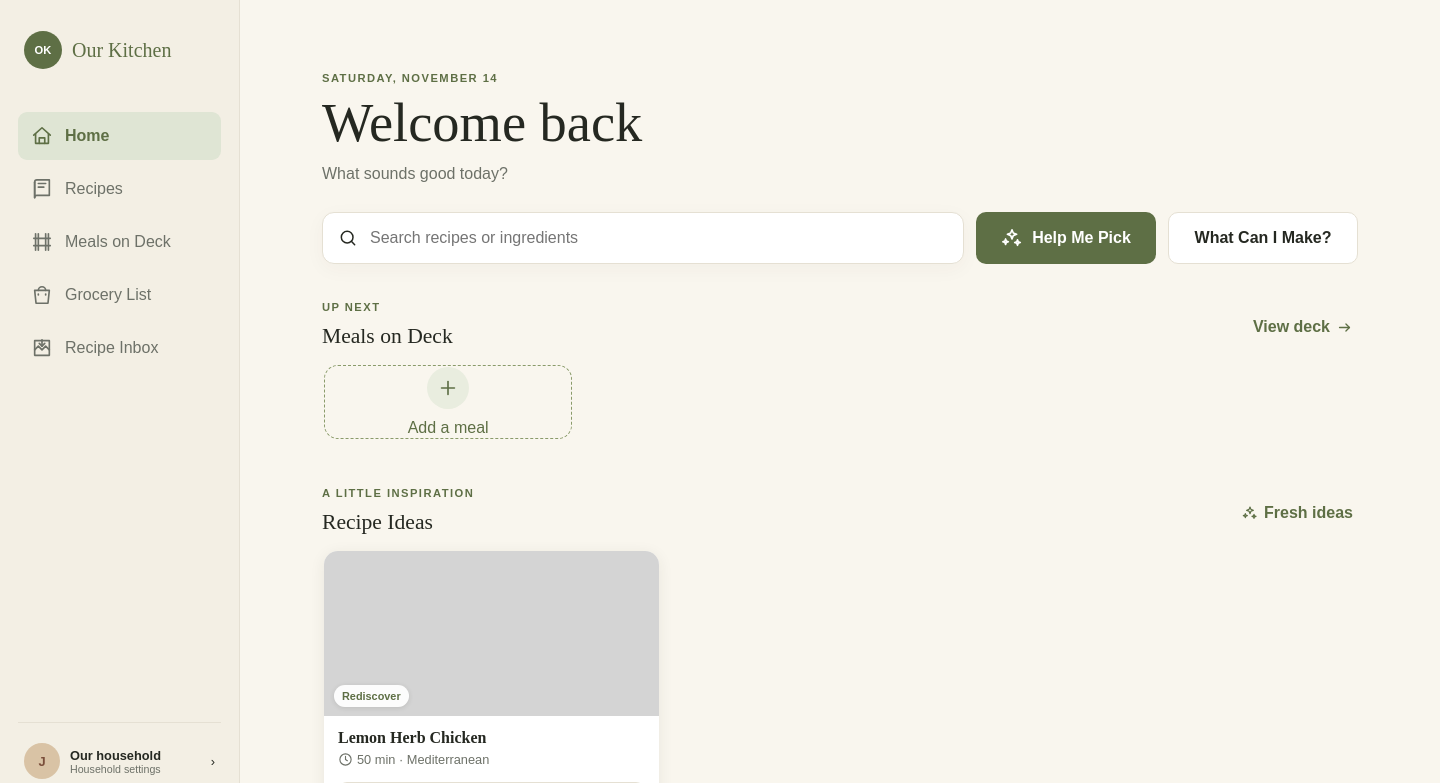
Scenario: App navigation › switches pages immediately and clears a higher-priority recipe workflow
Check: the heading "Welcome back" is shown, box [322,93,642,153]
Click the button "Recipes": [120, 189] box [18,165,221,213]
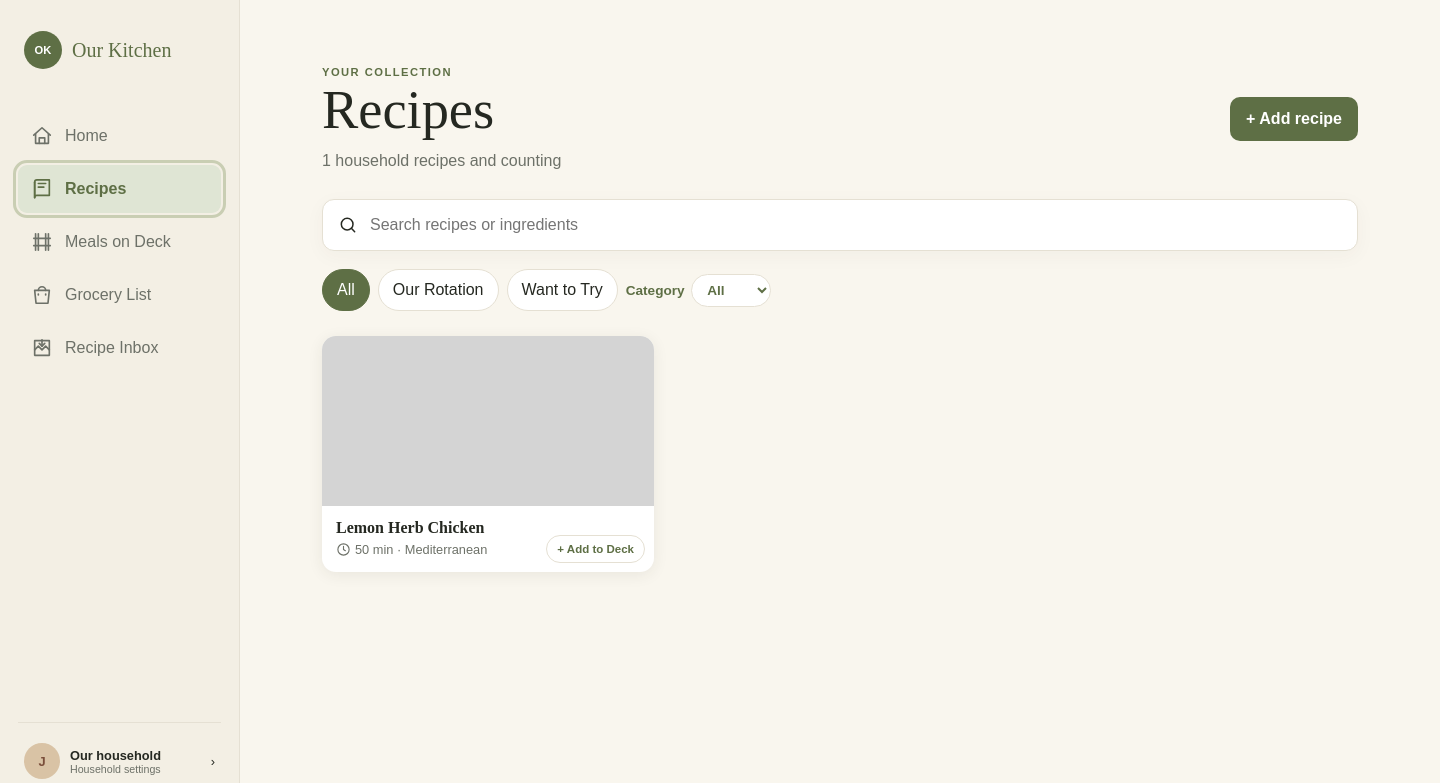
Check: the heading "Recipes" is shown, box [322,80,494,140]
Click the button "+ Add recipe": [1294, 119] box [1230,97,1358,141]
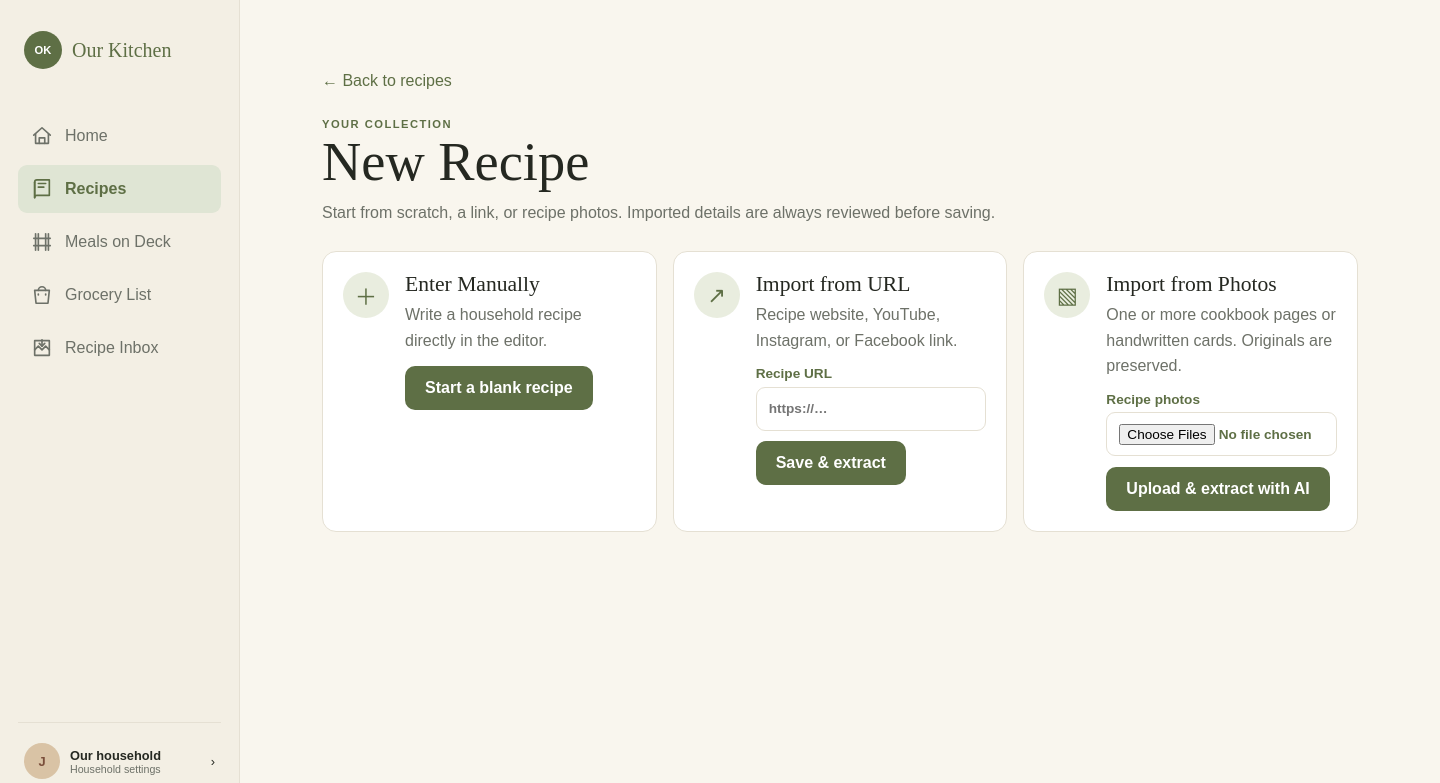
Check: the heading "New Recipe" is shown, box [322,132,589,192]
Click the button "Grocery List": [120, 295] box [18,271,221,319]
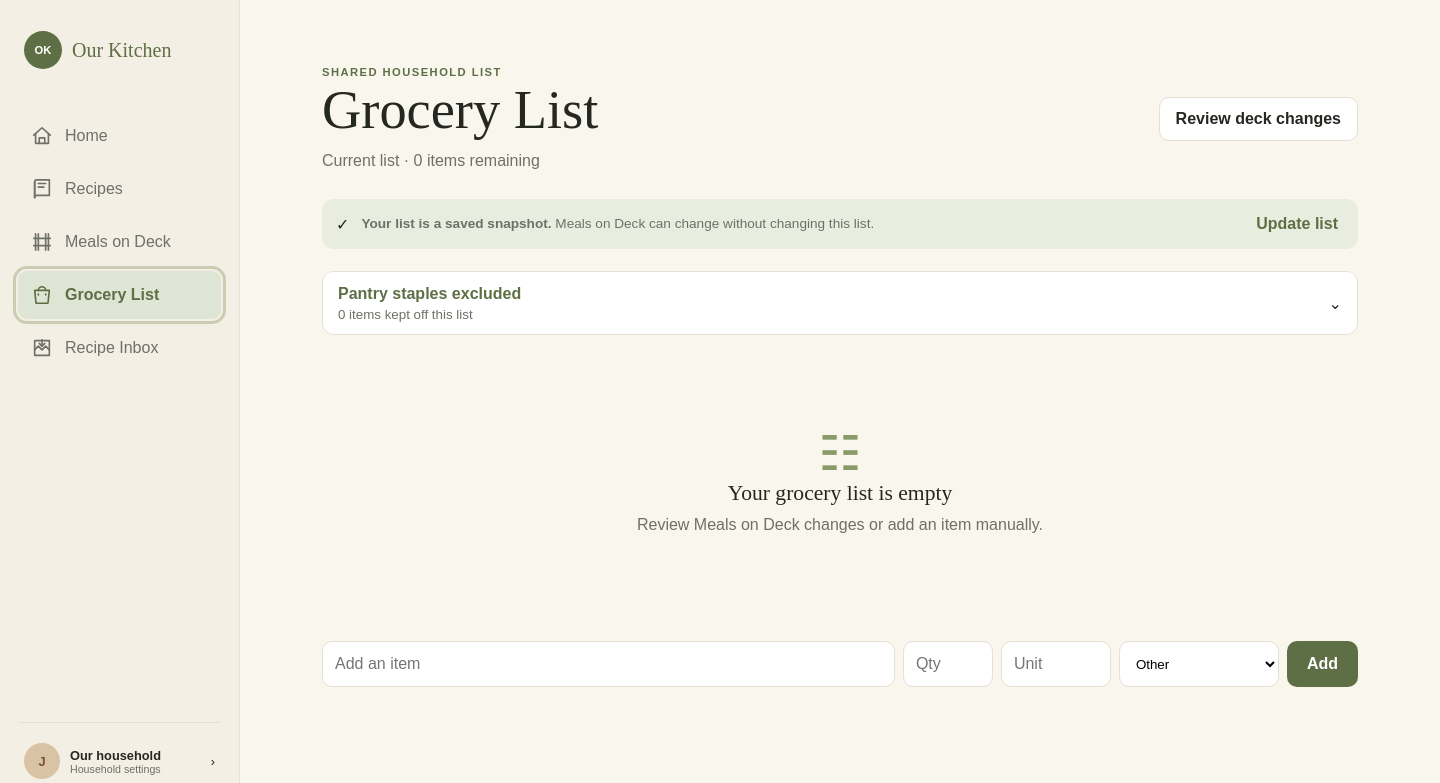
Check: the heading "Grocery List" is shown, box [322,82,598,139]
Check: the heading "New Recipe" is gone
Click the button "Recipes": [120, 189] box [18,165,221,213]
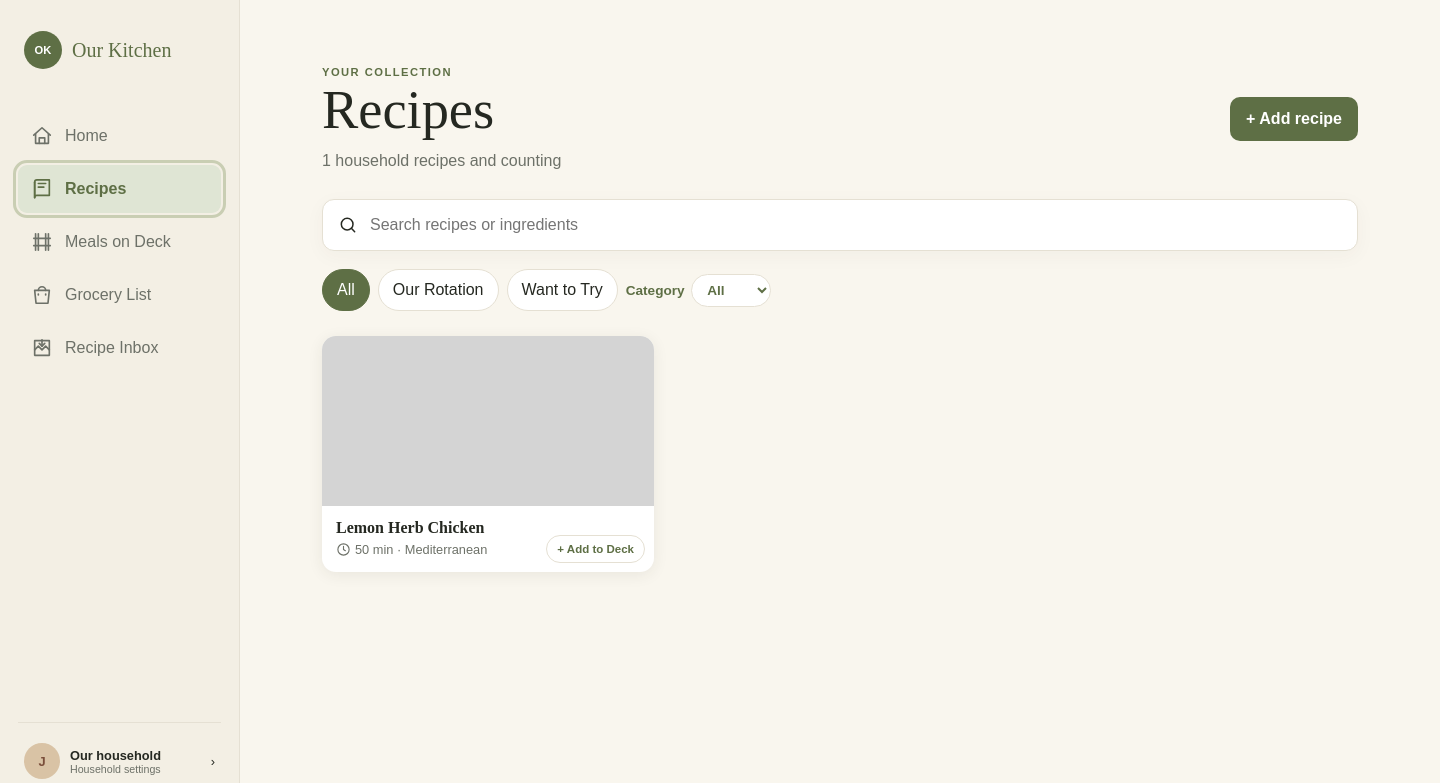
Check: the text "Lemon Herb Chicken" is shown, box [336,519,484,536]
